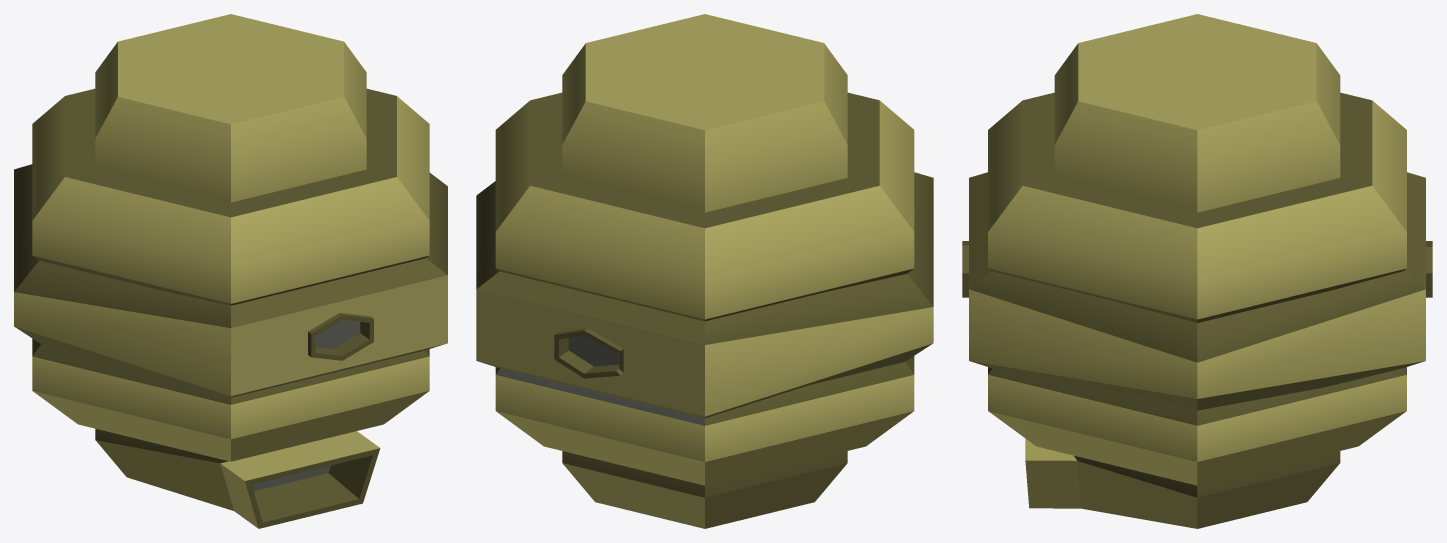
File: base_lvl_1.fbx
The picture shows the model from 3 angles, left to right: view 1: azimuth 30°, elevation 25°; view 2: azimuth 150°, elevation 25°; view 3: azimuth 270°, elevation 25°; orthographic projection. The views are drawn at different scales.
Visible parts, largest first — view 1: Beehive_lvl1; view 2: Beehive_lvl1; view 3: Beehive_lvl1.
Boxes of the visible parts, x1,y1,x2,y2 form: Beehive_lvl1: (14,14,447,528); Beehive_lvl1: (476,14,933,528); Beehive_lvl1: (962,14,1432,528).
Size of the model in its own units: 4.07 by 3.48 by 3.62.
